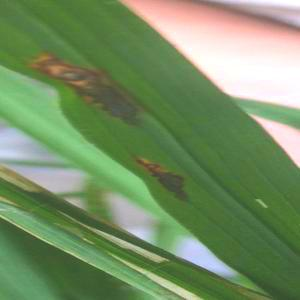1 RiceBlast: (34, 53, 144, 133), (128, 142, 193, 209)
